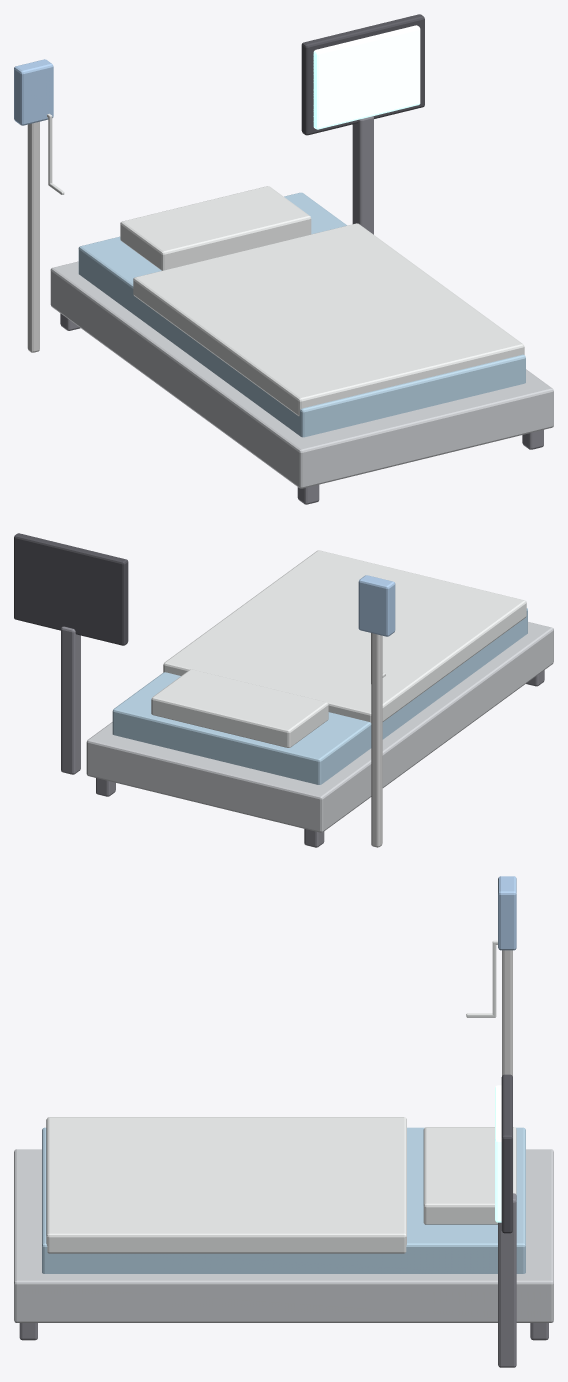
Rendered from кушетка.glb.
3 renders of one model, top to bottom at view 1: azimuth 30°, elevation 25°; view 2: azimuth 150°, elevation 25°; view 3: azimuth 270°, elevation 25°, orthographic. The views are drawn at different scales.
Visible parts, largest first — view 1: кушетка; view 2: кушетка; view 3: кушетка.
Boxes of the visible parts, <box> form: кушетка: <box>14,14,553,504</box>; кушетка: <box>14,533,553,847</box>; кушетка: <box>14,876,553,1367</box>.
Size of the model in its own units: 2.71 by 1.82 by 2.9.
